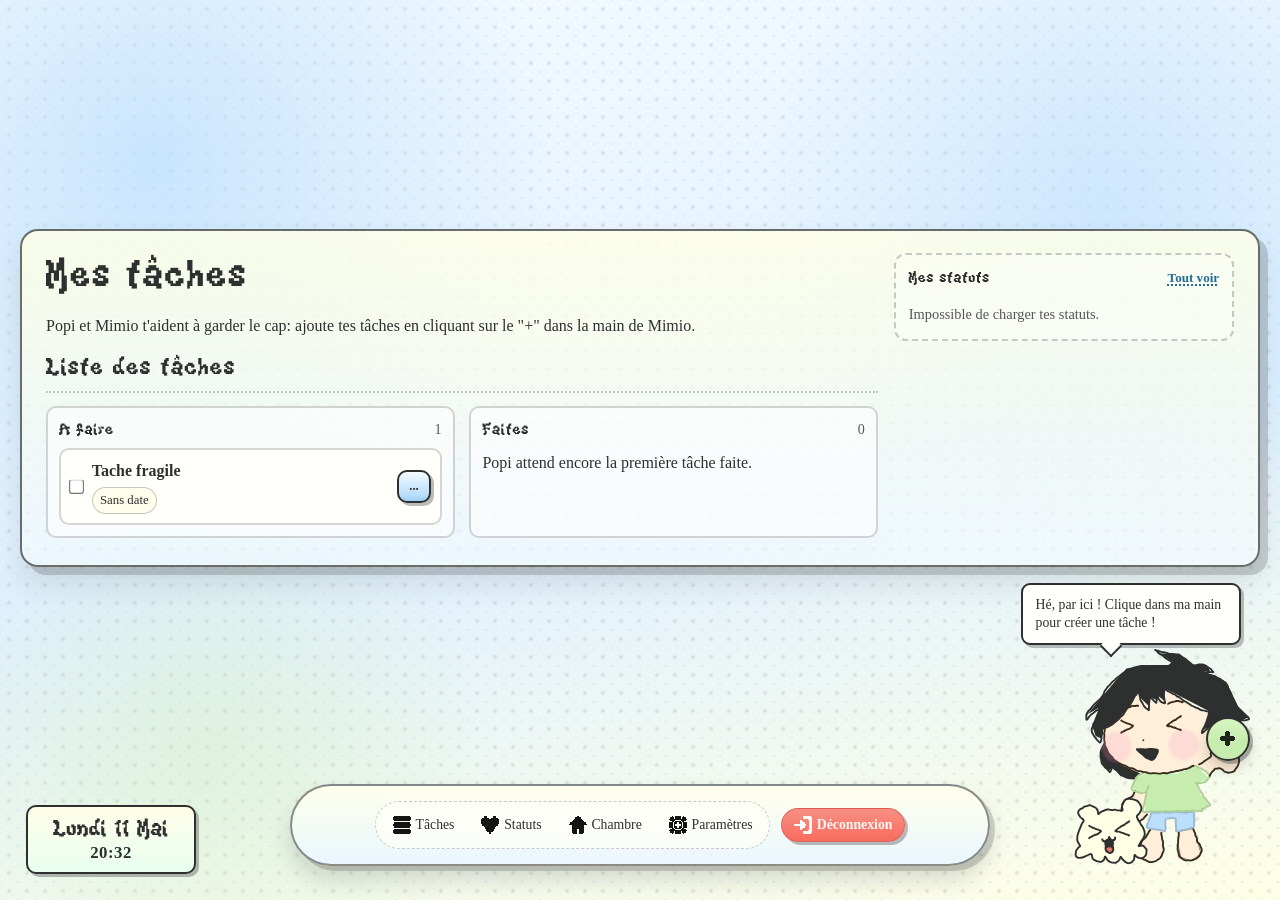
Scenario: TasksPage › rolls back checked state and shows error when toggle update fails
The width and height of the screenshot is (1280, 900).
What coordinates should you click on to do the following:
click the checkbox named "Marquer \"Tache fragile\" comme faite"
I would click on:
 (76, 486)
Its box is [69,479,84,494].
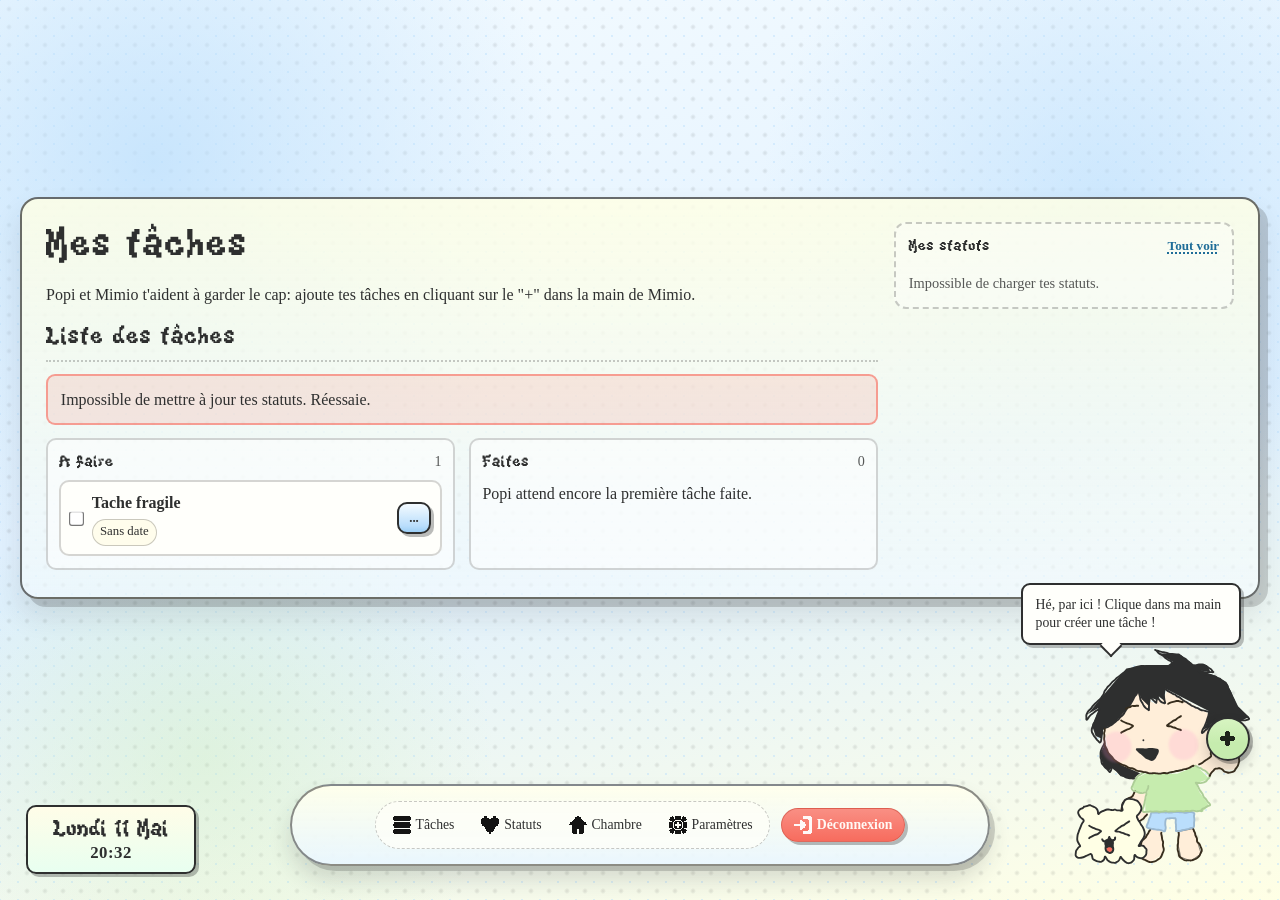
Expected: the checkbox named "Marquer \"Tache fragile\" comme faite" is not checked, [69,511,84,526]
Expected: the message "Impossible de mettre à jour tes statuts. Réessaie." is shown, [46,374,878,425]
